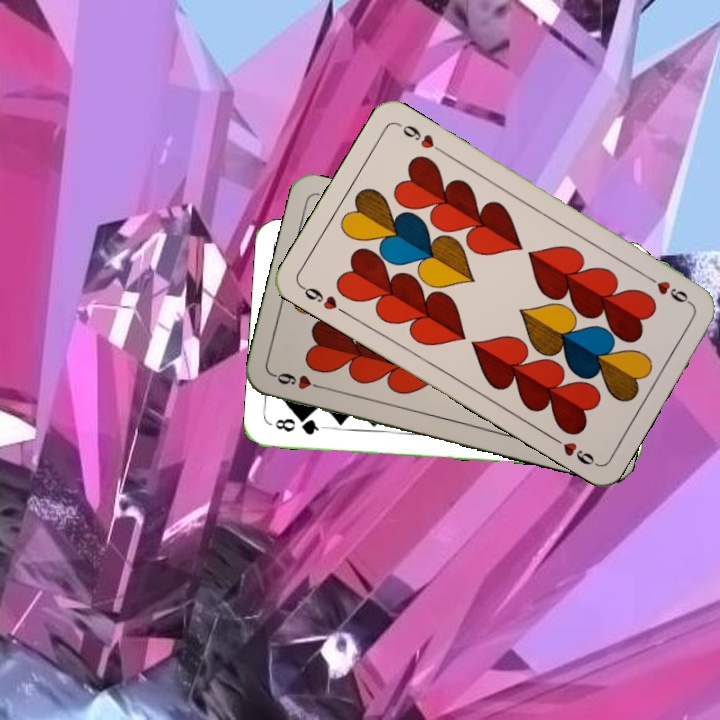G8: (271, 414, 327, 438)
H9: (641, 270, 694, 308), (296, 281, 350, 318), (269, 369, 328, 392)
